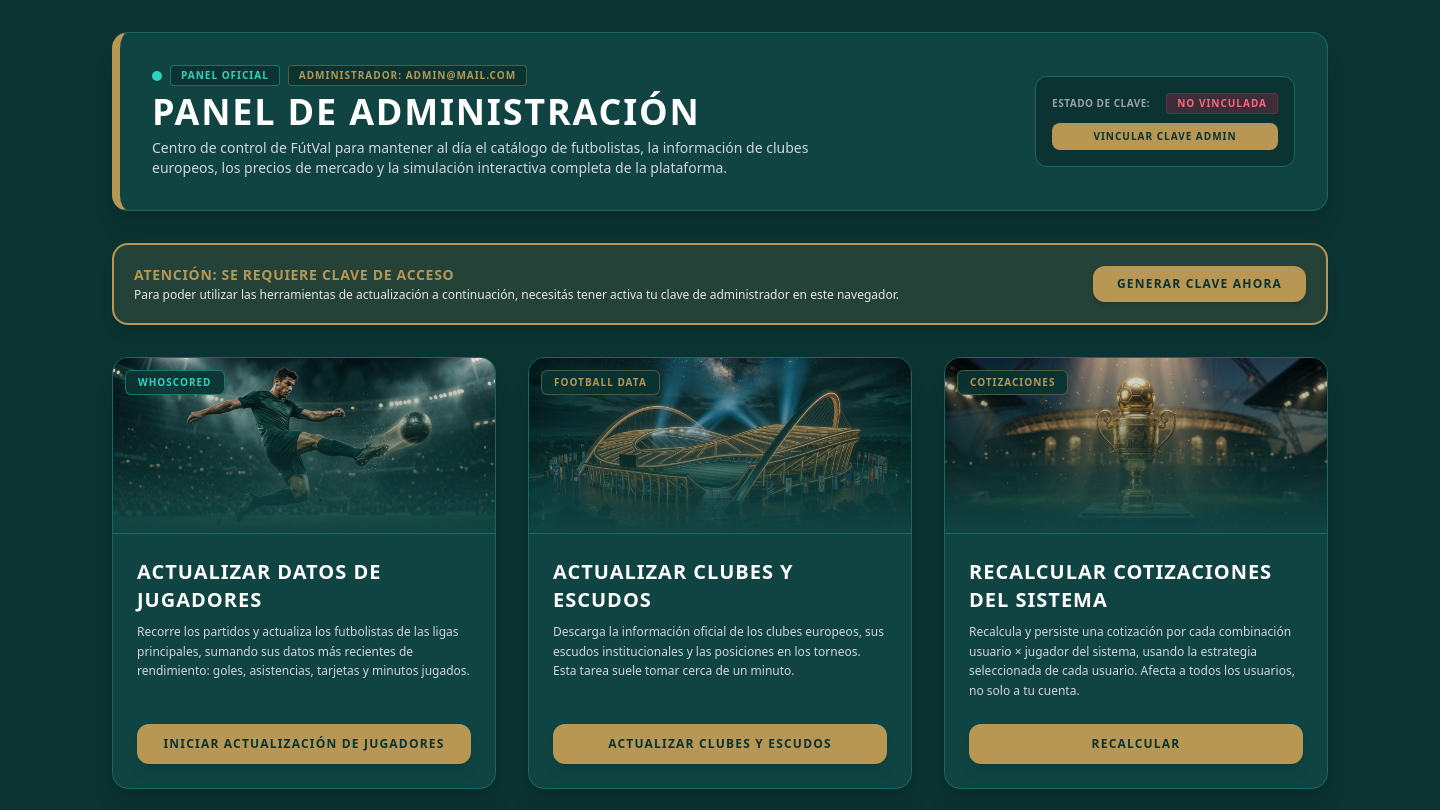
Scenario: AdminPage › dispara el recálculo global de cotizaciones y muestra el resumen de recalculados/salteados
Click the button "Recalcular": x=1136, y=744 [969,724,1303,764]
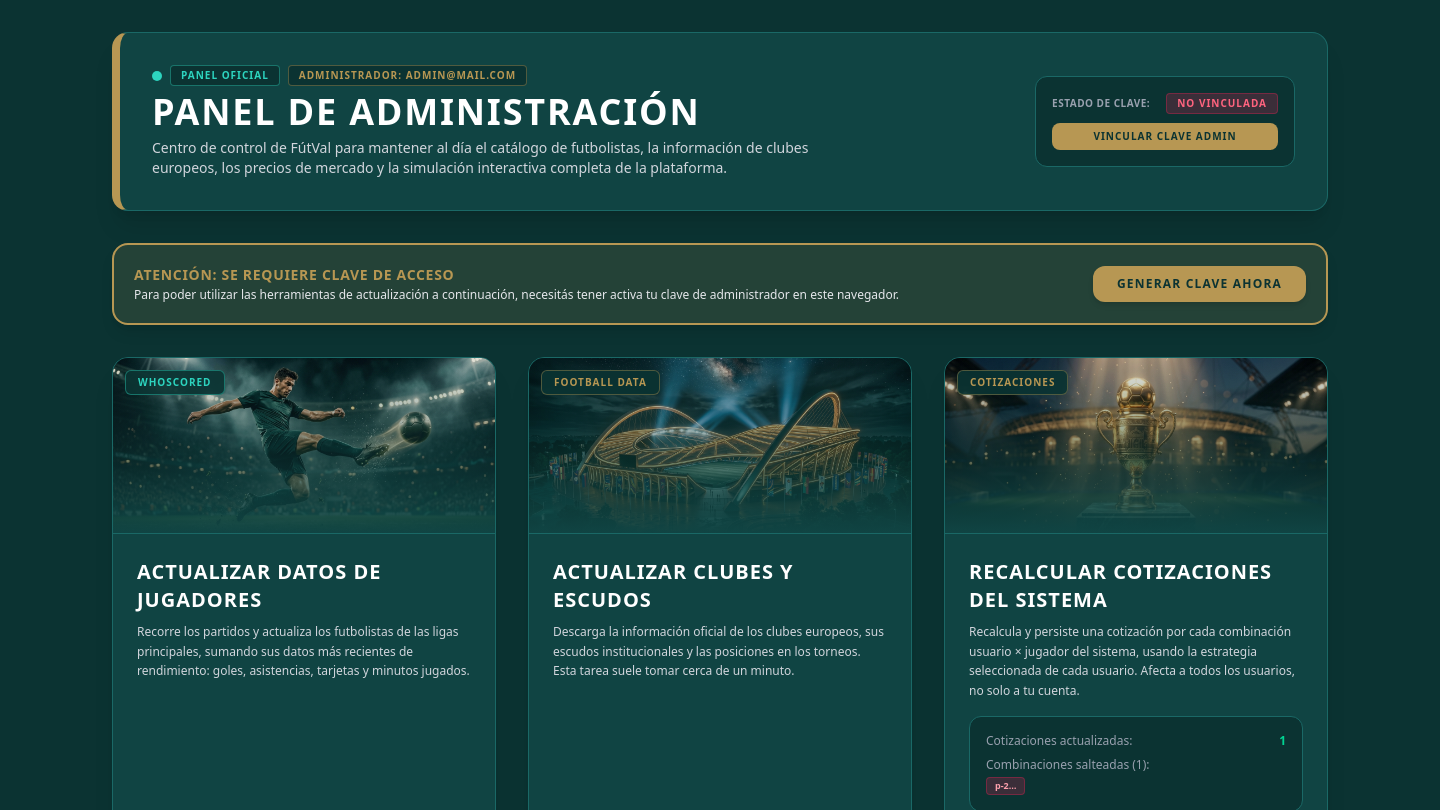
Expected: the text "Cotizaciones actualizadas:" is shown, [986,732,1132,749]
Expected: the text "Combinaciones salteadas (1):" is shown, [986,756,1150,773]
